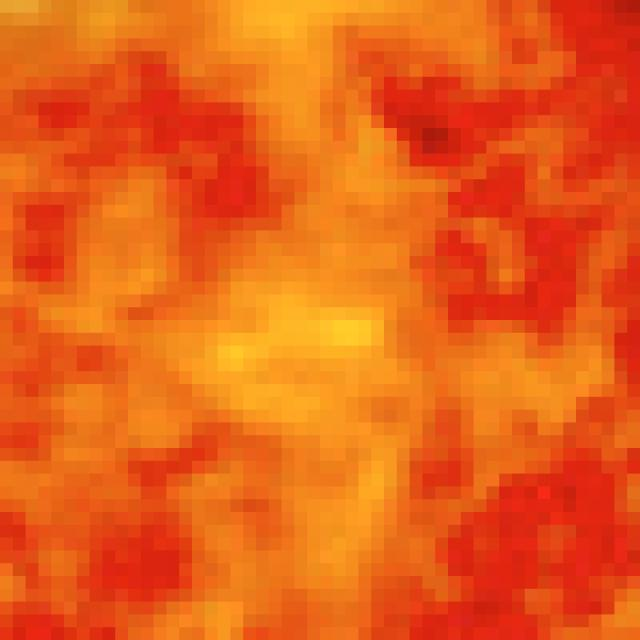fire: (8, 30, 616, 597)
